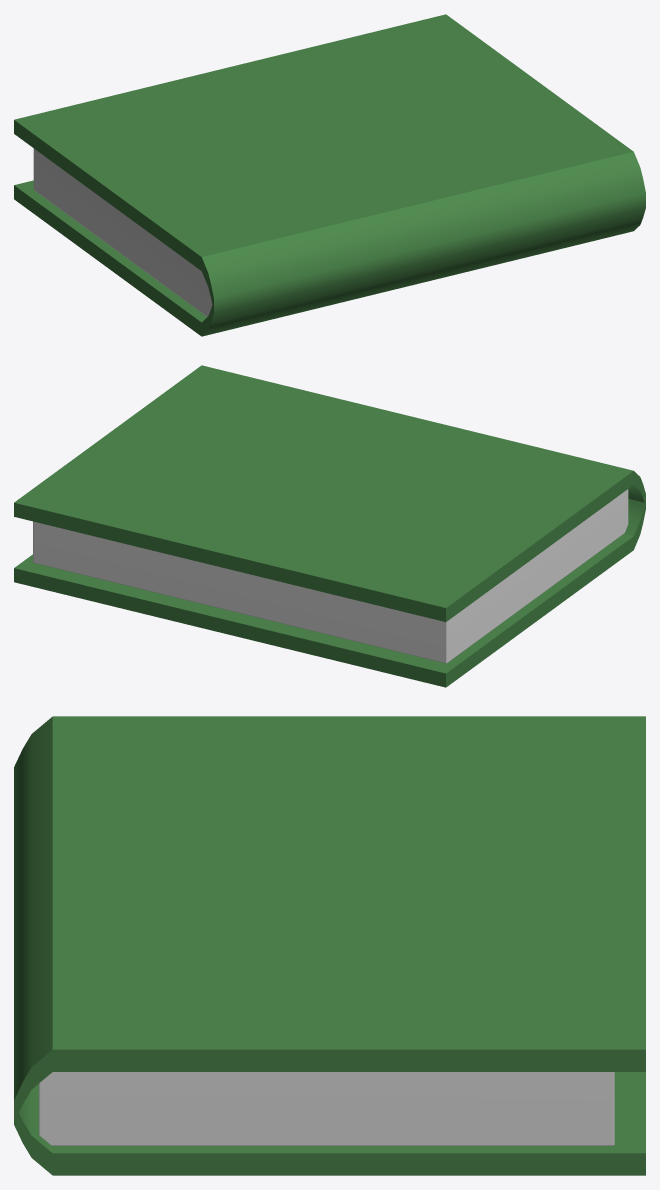
The model's file is Livre.fbx.
The picture shows the model from 3 angles, top to bottom: view 1: azimuth 30°, elevation 25°; view 2: azimuth 150°, elevation 25°; view 3: azimuth 270°, elevation 25°; orthographic projection. The views are drawn at different scales.
Parts seen in each view (by area): view 1: corps, pages; view 2: corps, pages; view 3: corps, pages.
Boxes of the visible parts, left/top/right/bottom form: corps: left=14, top=14, right=645, bottom=336; pages: left=33, top=148, right=212, bottom=316; corps: left=14, top=365, right=645, bottom=687; pages: left=33, top=489, right=628, bottom=663; corps: left=14, top=716, right=645, bottom=1175; pages: left=39, top=1072, right=614, bottom=1145.
Size of the model in its own units: 30.1 by 5.3 by 24.12.
